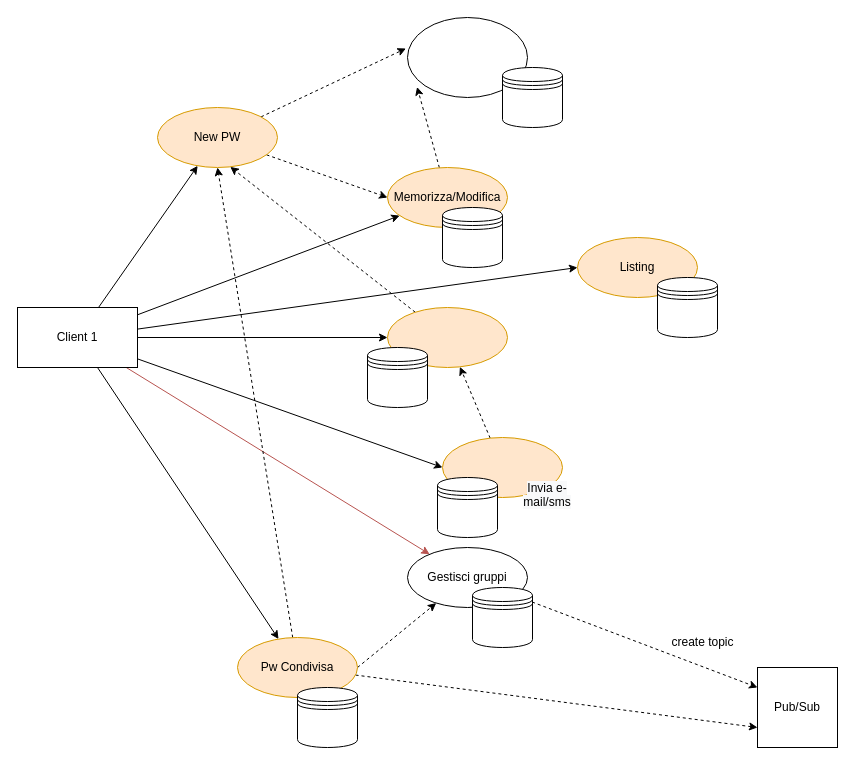
Image size: 855x765. Some labels were removed from this diagram. Each missing label, with the box of its shape:
Doppia Aut.: (442, 436, 562, 498)
Leak Checking: (406, 16, 528, 98)
Pw Temporanea: (386, 306, 508, 368)
